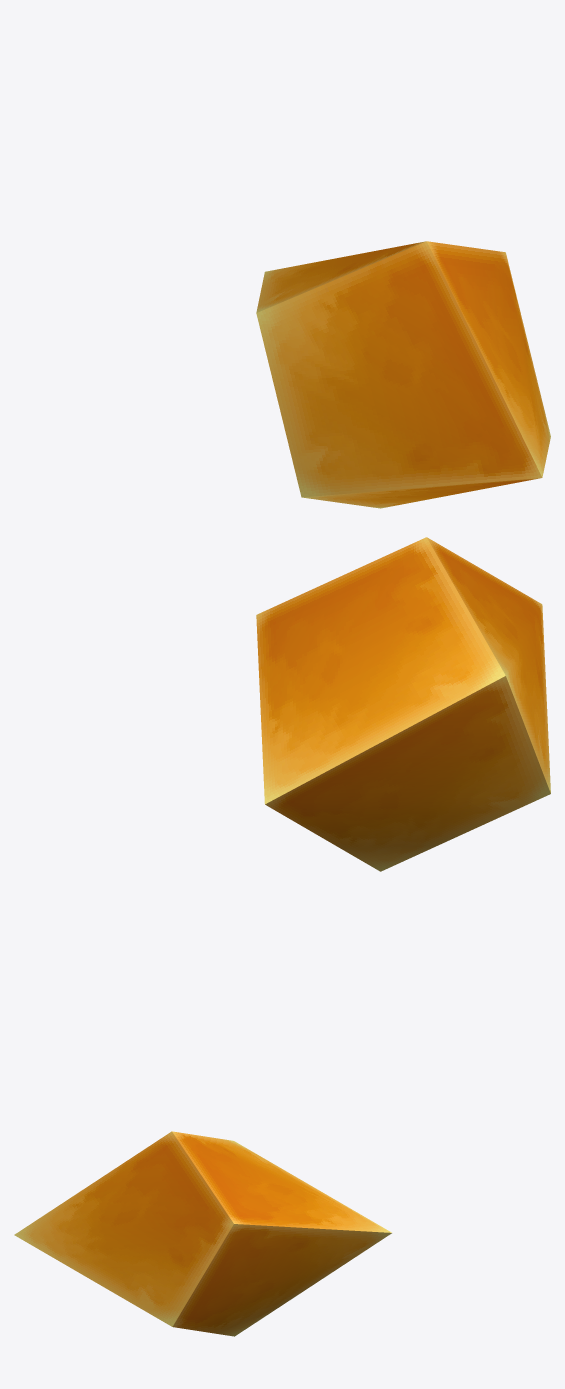
The picture shows the model from 3 angles, top to bottom: view 1: azimuth 30°, elevation 25°; view 2: azimuth 150°, elevation 25°; view 3: azimuth 270°, elevation 25°; orthographic projection. The views are drawn at different scales.
Visible parts, largest first — view 1: whitekey.model_key-MeshNodes["Box02"]; view 2: whitekey.model_key-MeshNodes["Box02"]; view 3: whitekey.model_key-MeshNodes["Box02"].
Boxes of the visible parts, x1,y1,x2,y2 form: whitekey.model_key-MeshNodes["Box02"]: [256, 241, 550, 508]; whitekey.model_key-MeshNodes["Box02"]: [256, 537, 550, 871]; whitekey.model_key-MeshNodes["Box02"]: [14, 1131, 391, 1336].
Bounding box in the file's own units: 0.75 × 0.801 × 1.9.
2 materials, 2 textured.
